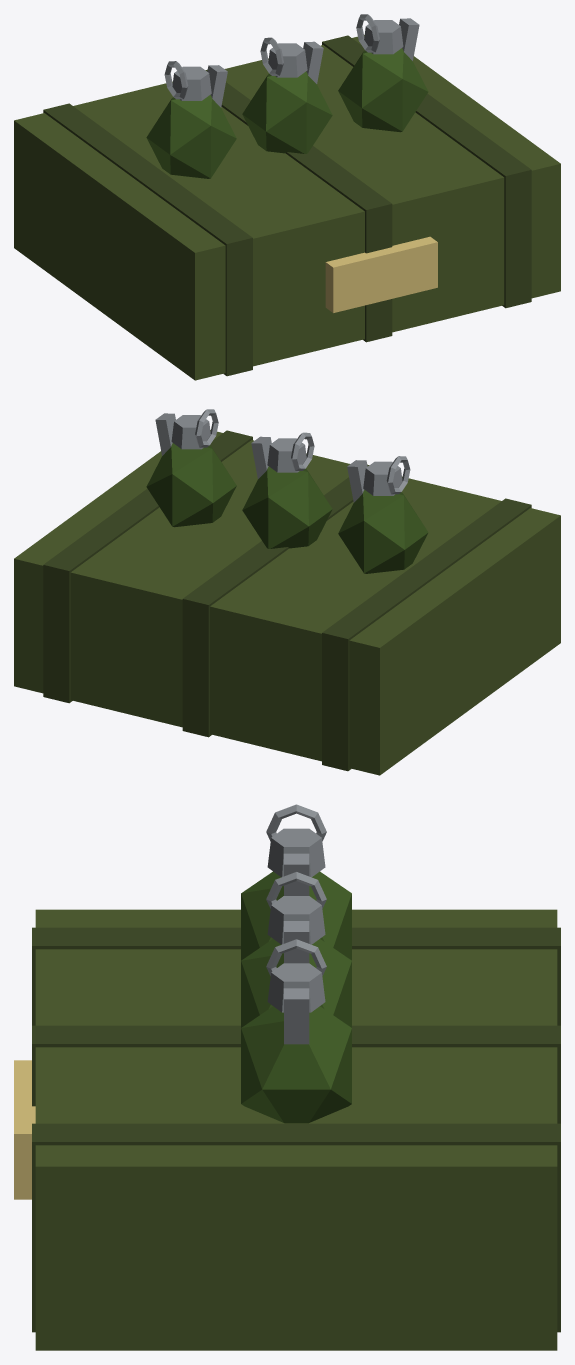
File: prop_grenade_crate.glb
3 renders of one model, top to bottom at view 1: azimuth 30°, elevation 25°; view 2: azimuth 150°, elevation 25°; view 3: azimuth 270°, elevation 25°, orthographic. The views are drawn at different scales.
Parts seen in each view (by area): view 1: grenade crate, grenade (×3); view 2: grenade crate, grenade (×3); view 3: grenade crate, grenade (×3).
Part boxes in pixels (bbox=[...]): grenade crate: bbox=[14, 35, 560, 380]; grenade (×3): bbox=[146, 14, 428, 178]; grenade crate: bbox=[14, 430, 560, 775]; grenade (×3): bbox=[146, 409, 428, 573]; grenade crate: bbox=[14, 909, 560, 1350]; grenade (×3): bbox=[241, 804, 351, 1123].
Bounding box in the file's own units: 4.2 × 2.61 × 3.78.
